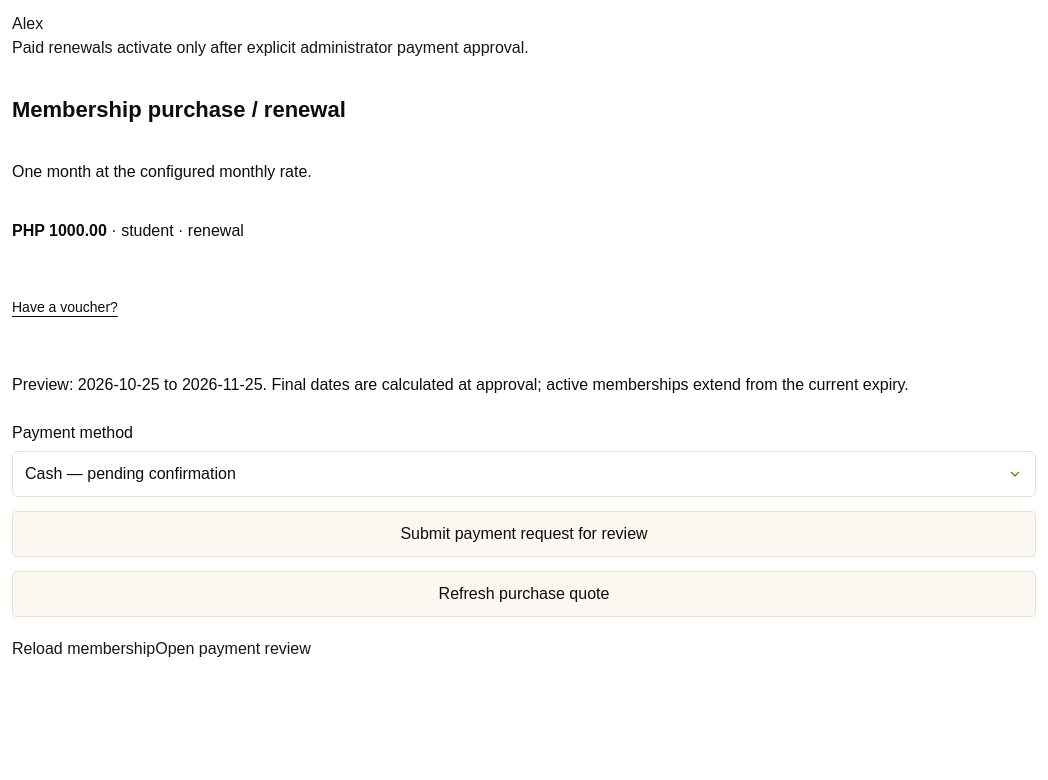
submits a reviewed configured monthly quote as pending and does not directly activate membership
Check: the text "2026-10-25 to 2026-11-25" is shown, box left=12, top=372, right=1036, bottom=397
Click the button "Submit payment request for review" at (524, 534), box left=12, top=511, right=1036, bottom=557
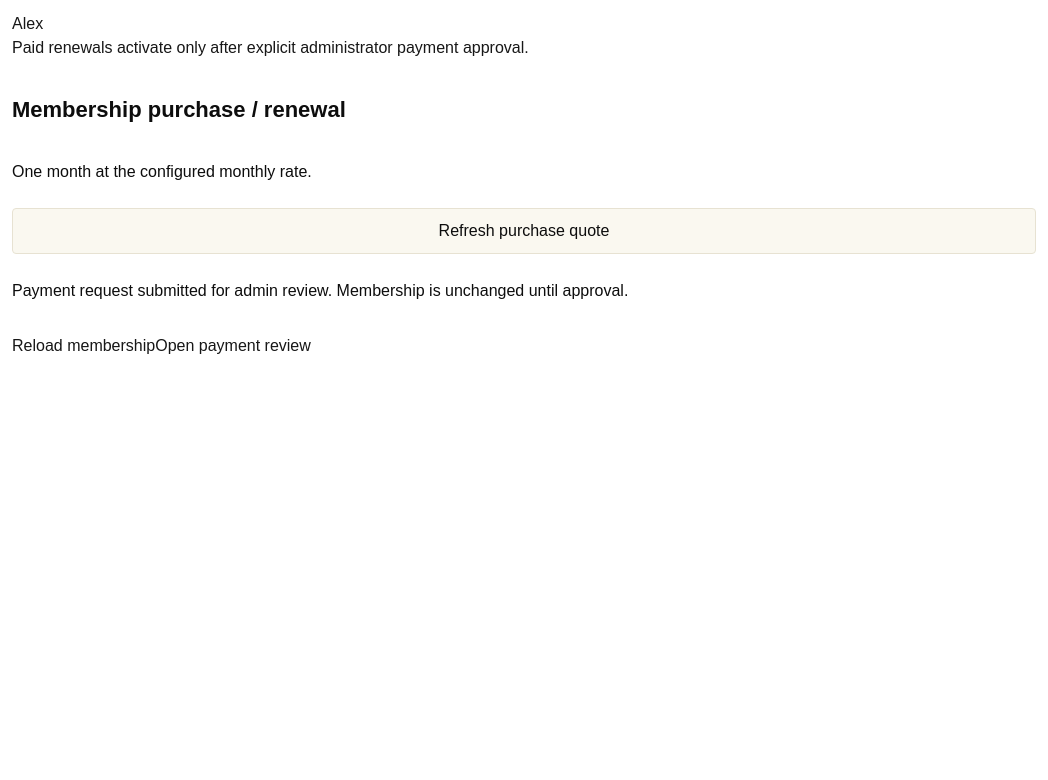
Check: the message shows "Membership is unchanged until approval", box left=12, top=282, right=628, bottom=299
